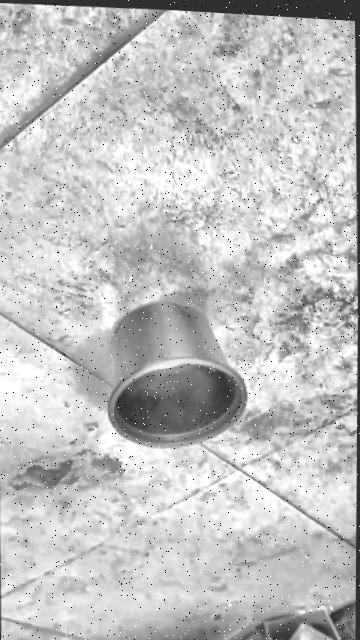pot: (105, 297, 249, 453)
